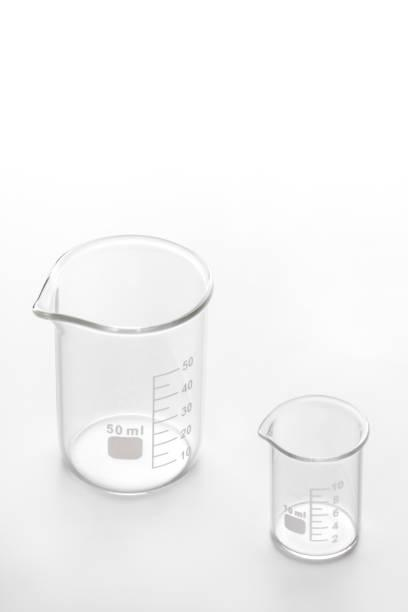Beaker: (26, 222, 214, 496), (255, 392, 365, 566)
